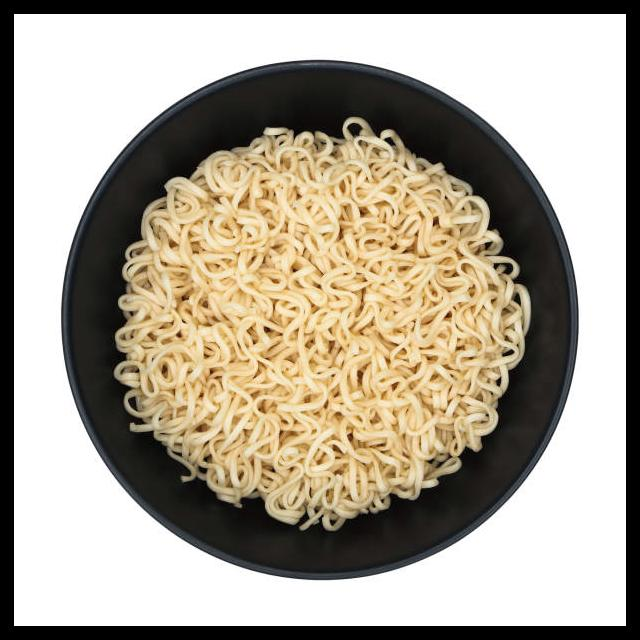noodles: (111, 118, 532, 531)
